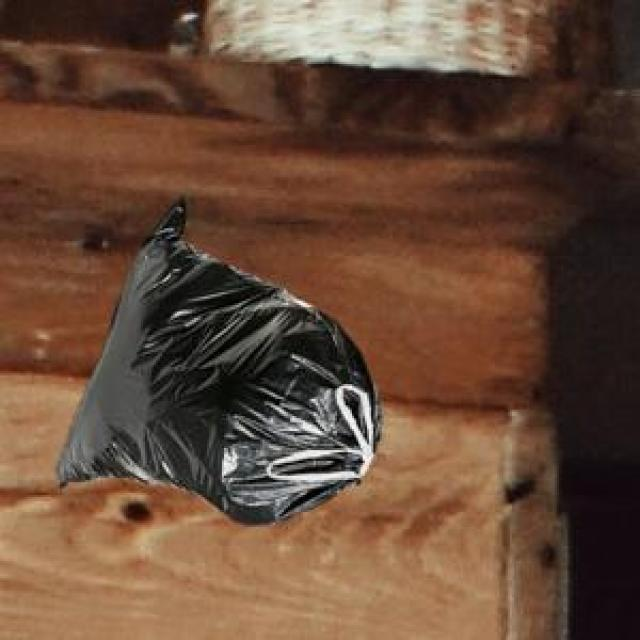miscellaneous trash: (53, 192, 376, 521)
